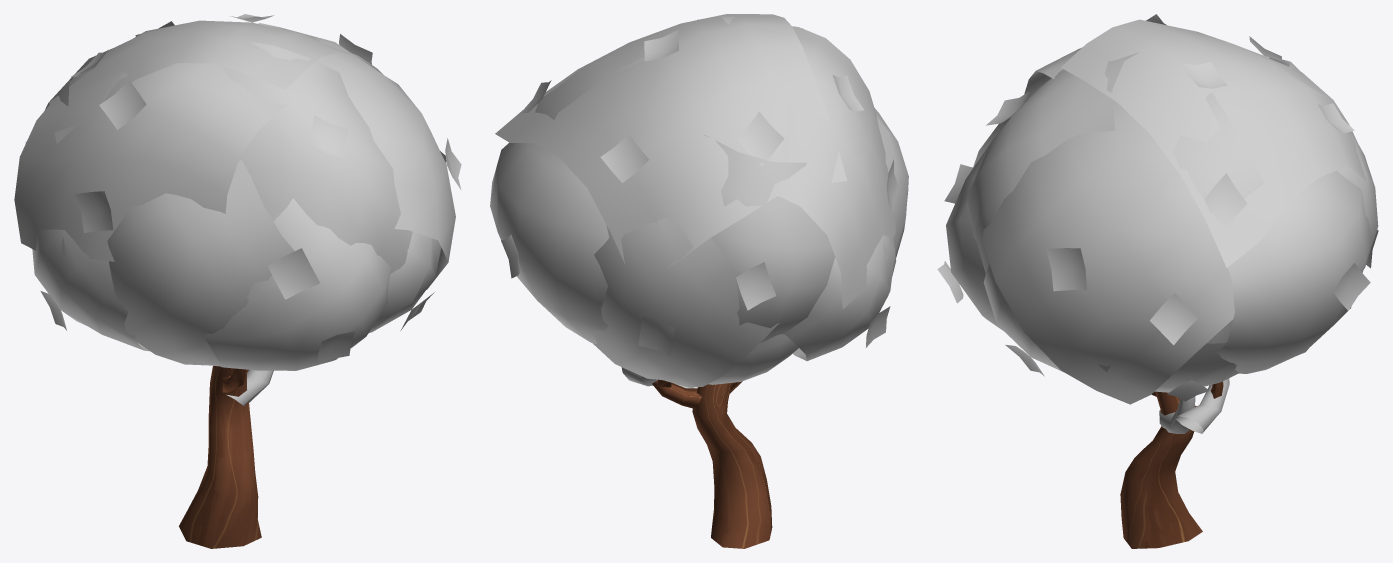
File: appletree_v1.fbx
3 views of the same model, side by side, from view 1: azimuth 30°, elevation 25°; view 2: azimuth 150°, elevation 25°; view 3: azimuth 270°, elevation 25° (orthographic).
Visible parts, largest first — view 1: polySurface1, polySurface2, pCylinder5; view 2: polySurface1, polySurface2; view 3: polySurface1, polySurface2, pCylinder8, pCylinder5.
Part boxes in pixels (x1,y1,x2,y2): polySurface1: (14,14,461,370); polySurface2: (179,366,261,548); pCylinder5: (226,369,273,406); polySurface1: (490,14,908,387); polySurface2: (652,379,772,548); polySurface1: (937,14,1378,404); polySurface2: (1120,381,1223,548); pCylinder8: (1176,378,1229,433); pCylinder5: (1159,396,1195,433).
Size of the model in its own units: 14.12 by 17.39 by 13.96.
